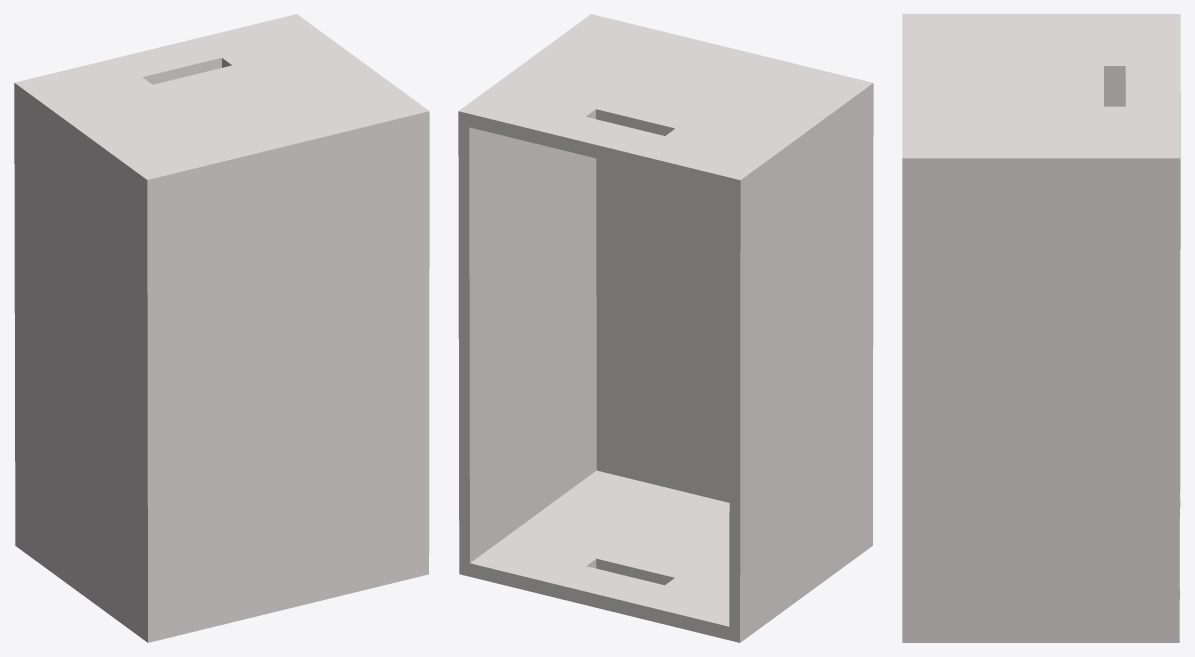
The model's file is crate-b.glb.
3 views of the same model, side by side, from view 1: azimuth 30°, elevation 25°; view 2: azimuth 150°, elevation 25°; view 3: azimuth 270°, elevation 25° (orthographic). The views are drawn at different scales.
Parts seen in each view (by area): view 1: warehouse_027; view 2: warehouse_027; view 3: warehouse_027.
Part boxes in pixels (<box>): warehouse_027: <box>14,14,429,642</box>; warehouse_027: <box>458,14,873,642</box>; warehouse_027: <box>902,14,1180,642</box>.
Bounding box in the file's own units: 0.419 × 0.6566 × 0.3418.
Materials: 1 (1 with a texture image).
